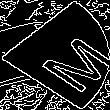M_NW: (7, 21, 103, 89)
